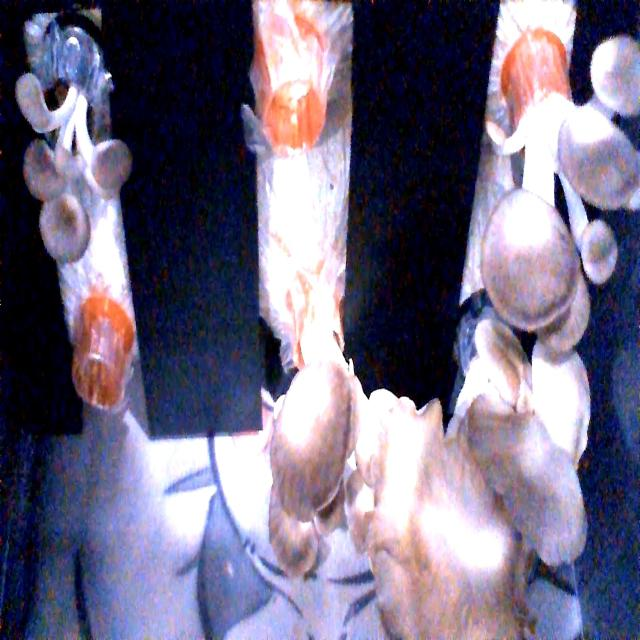big: (372, 326, 586, 640), (488, 37, 634, 338), (269, 325, 382, 556)
nfound: (262, 58, 344, 179), (58, 331, 138, 427)
small: (4, 62, 148, 277)
